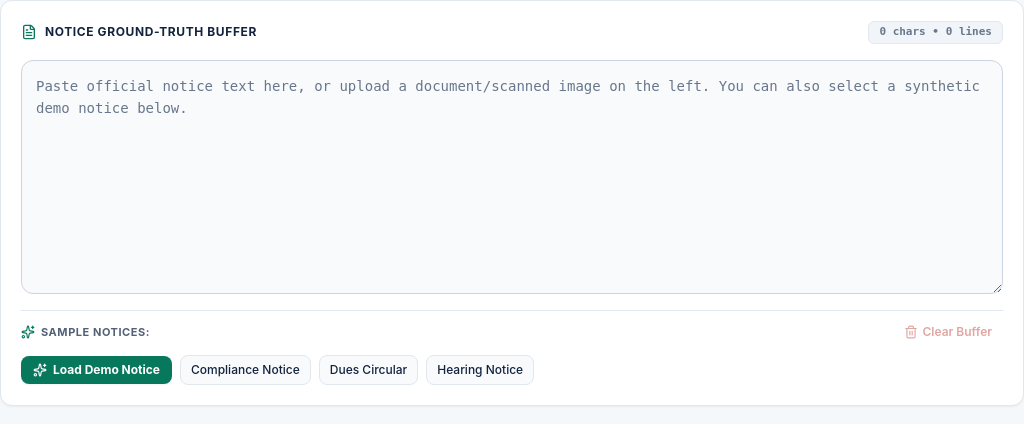
Test case: NoticeBuffer Component › renders buffer textarea and handles text input
Replace the text in the text box with placeholder "Paste official notice text here" with "New official scholarship circular." at (512, 177), box [21, 60, 1003, 294]
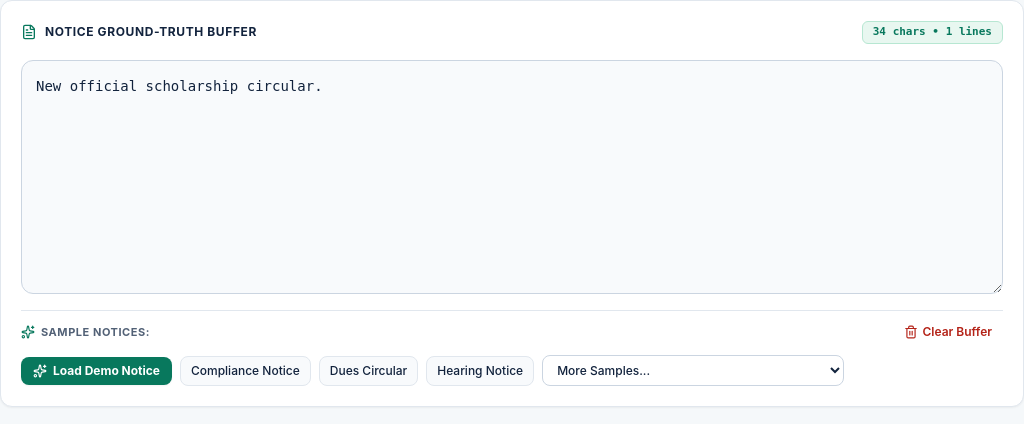
Expected: the text "34 chars • 1 lines" is shown, [862, 21, 1003, 44]
